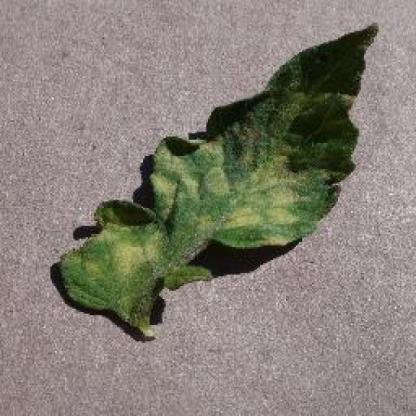Strawberry_Anthracnose_Fruit_Rot: (227, 189, 305, 231), (150, 155, 198, 201), (109, 238, 160, 278)
